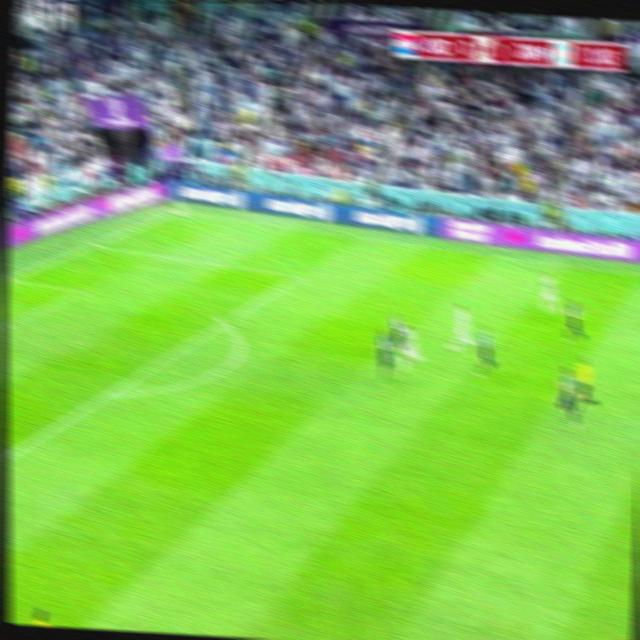bigarea_top_inner: (288, 266, 309, 286)
bigarea_top_outter: (86, 236, 105, 253)
bottom_arc_area_intersection: (99, 383, 118, 403)
corner: (167, 204, 190, 219)
smallarea_top_inner: (71, 282, 90, 300)
smallarea_top_outter: (3, 270, 18, 288)
top_arc_area_intersection: (213, 311, 234, 333)
